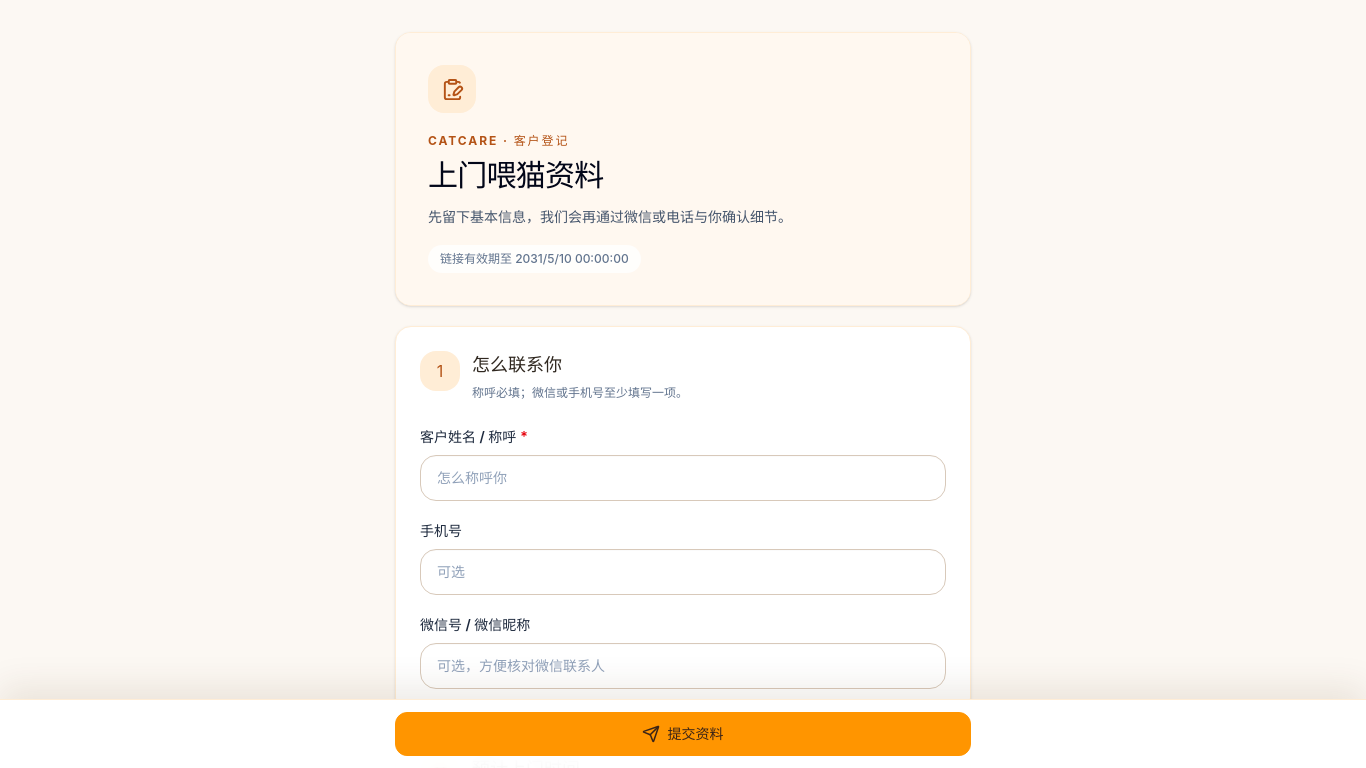
Test: requires a name and one contact method before opening confirmation
Type "只有称呼的虚构客户" into the field labelled "客户姓名 / 称呼*".
click(683, 478); type("只有称呼的虚构客户")  # box [420,455,946,501]
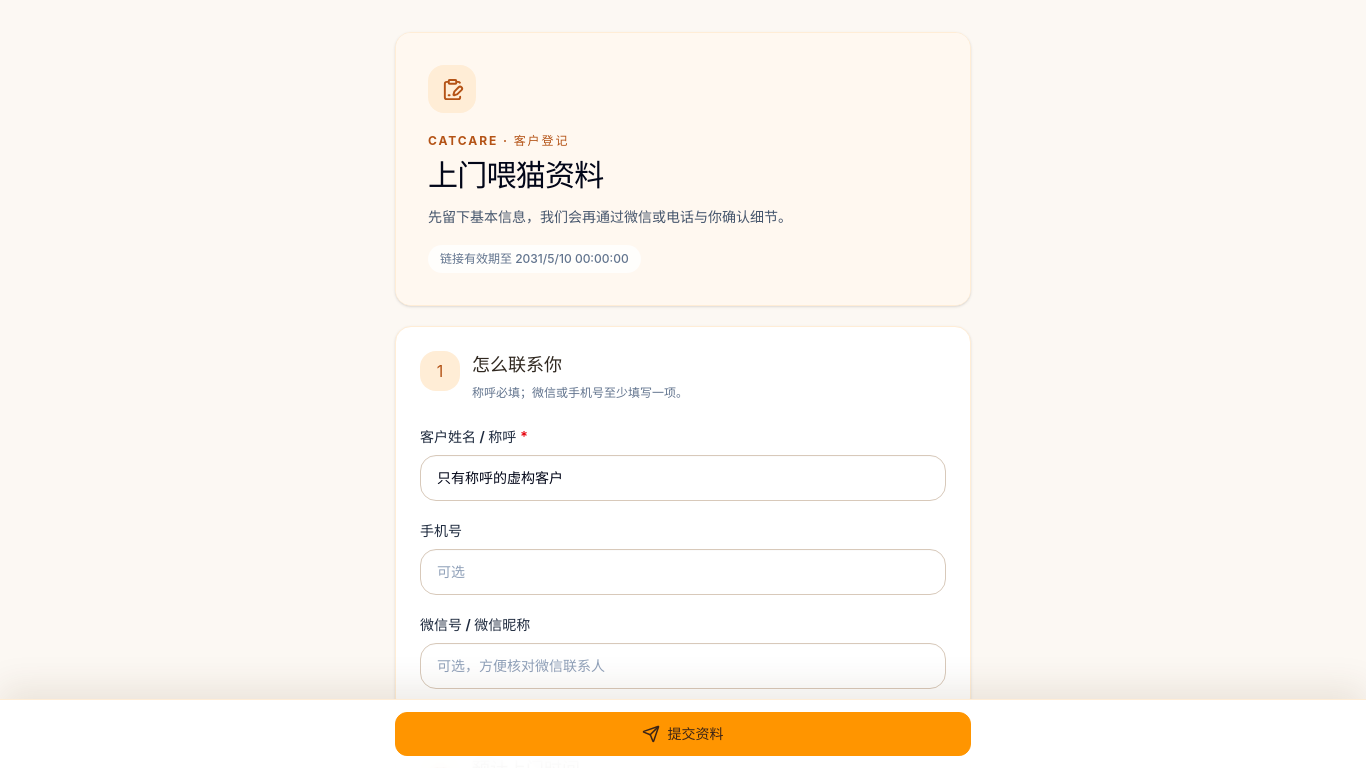
Click the button "提交资料".
click(683, 734)  # box [395,712,971,756]
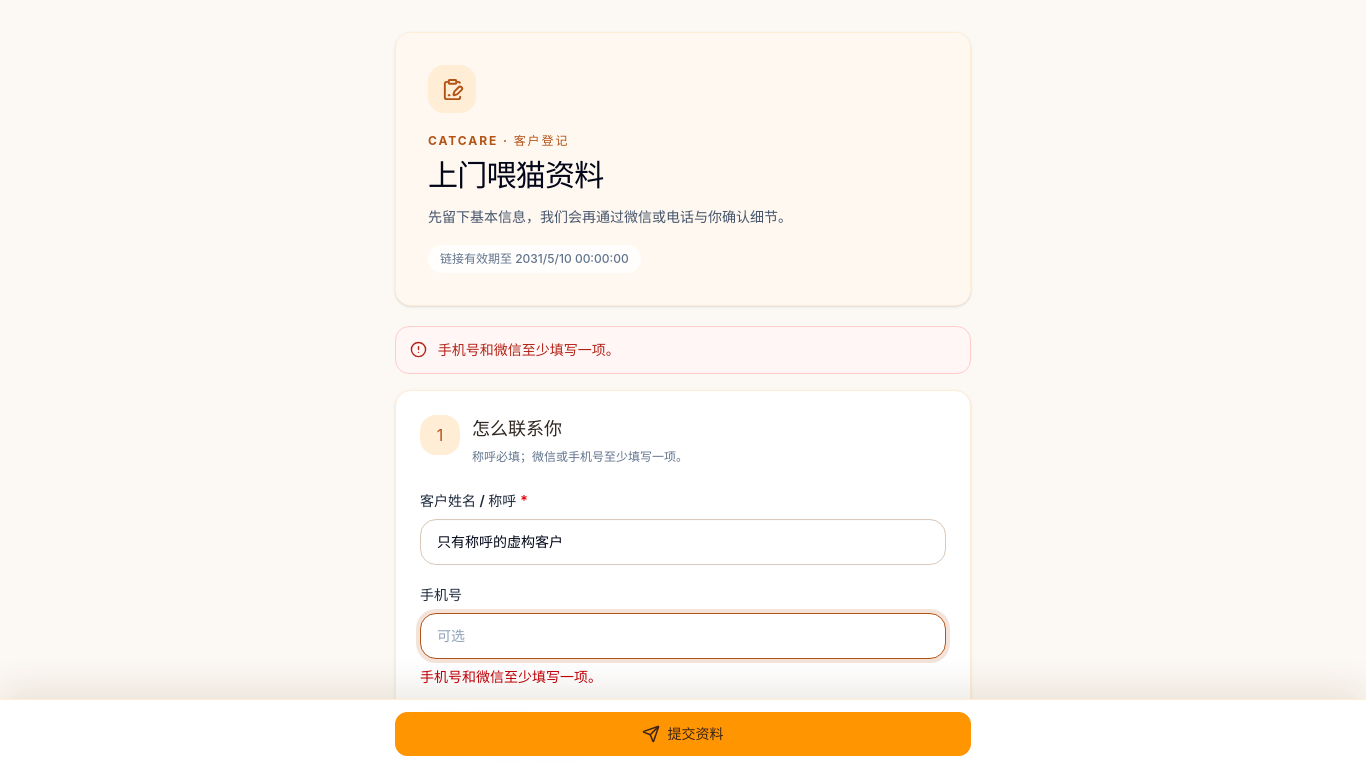
Result: the message shows "手机号和微信至少填写一项" at [438,341,620,358]
